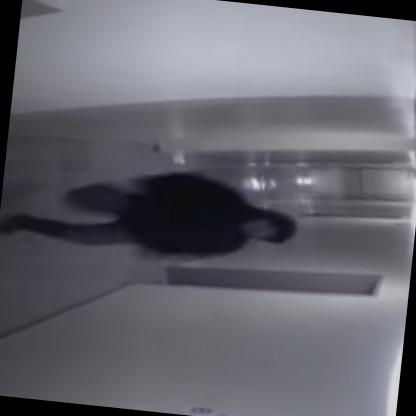Human Body: (0, 144, 307, 278)
